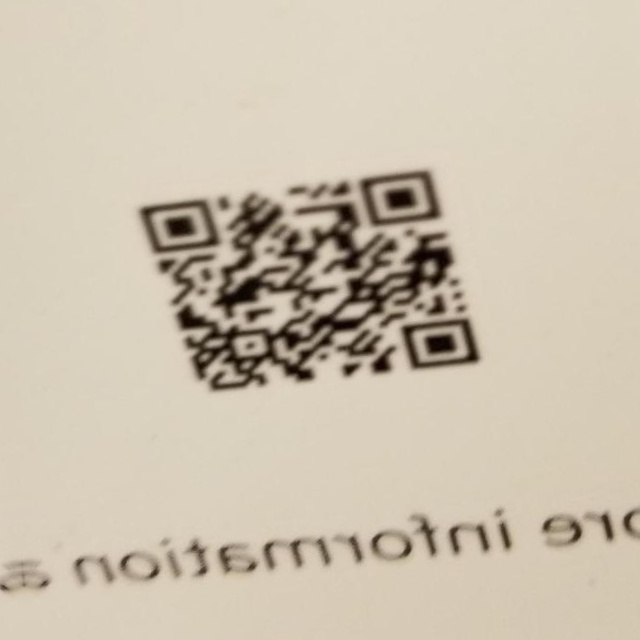qr-code: (108, 110, 513, 437)
